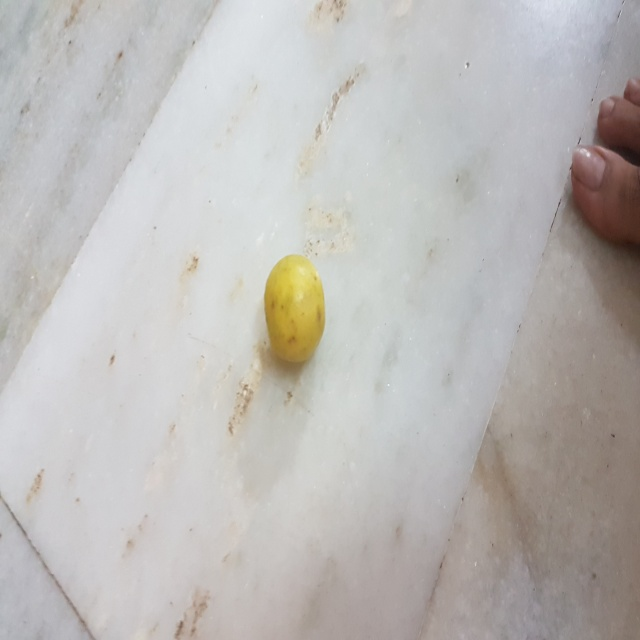lemon: (252, 248, 343, 379)
